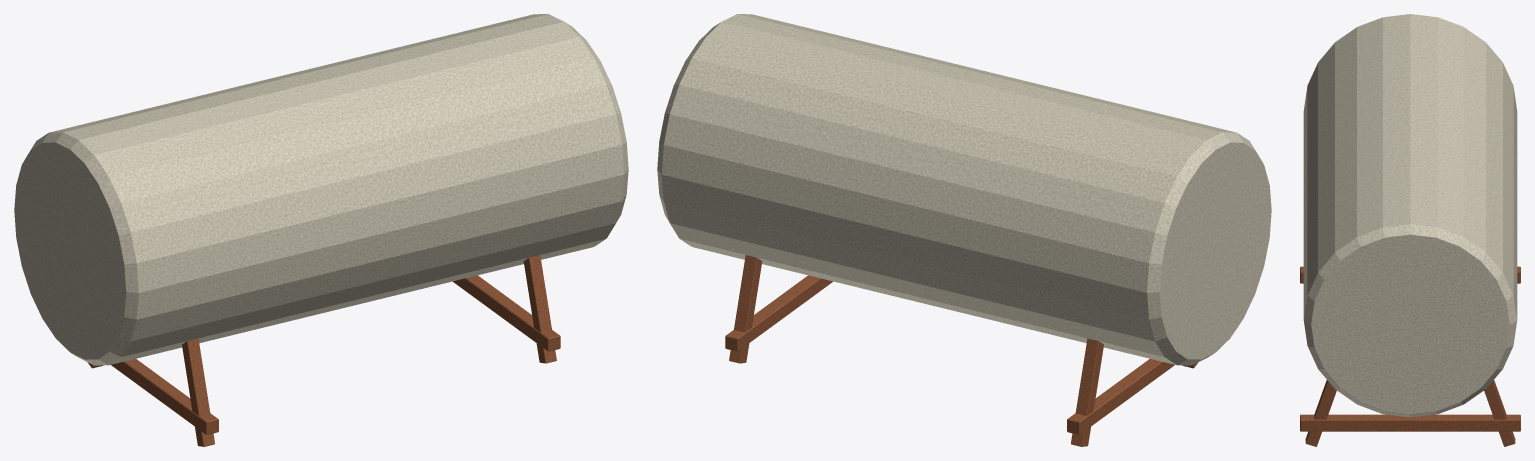
File: WHTTANK2_lod1.glb
The picture shows the model from 3 angles, left to right: view 1: azimuth 30°, elevation 25°; view 2: azimuth 150°, elevation 25°; view 3: azimuth 270°, elevation 25°; orthographic projection. The views are drawn at different scales.
Visible parts, largest first — view 1: WHTTANK2_LOD1; view 2: WHTTANK2_LOD1; view 3: WHTTANK2_LOD1.
Boxes of the visible parts, bbox=[...] form: WHTTANK2_LOD1: bbox=[14, 14, 628, 446]; WHTTANK2_LOD1: bbox=[657, 14, 1271, 446]; WHTTANK2_LOD1: bbox=[1300, 14, 1520, 446].
Bounding box in the file's own units: 7 × 3.77 × 3.
2 materials, 2 textured.
